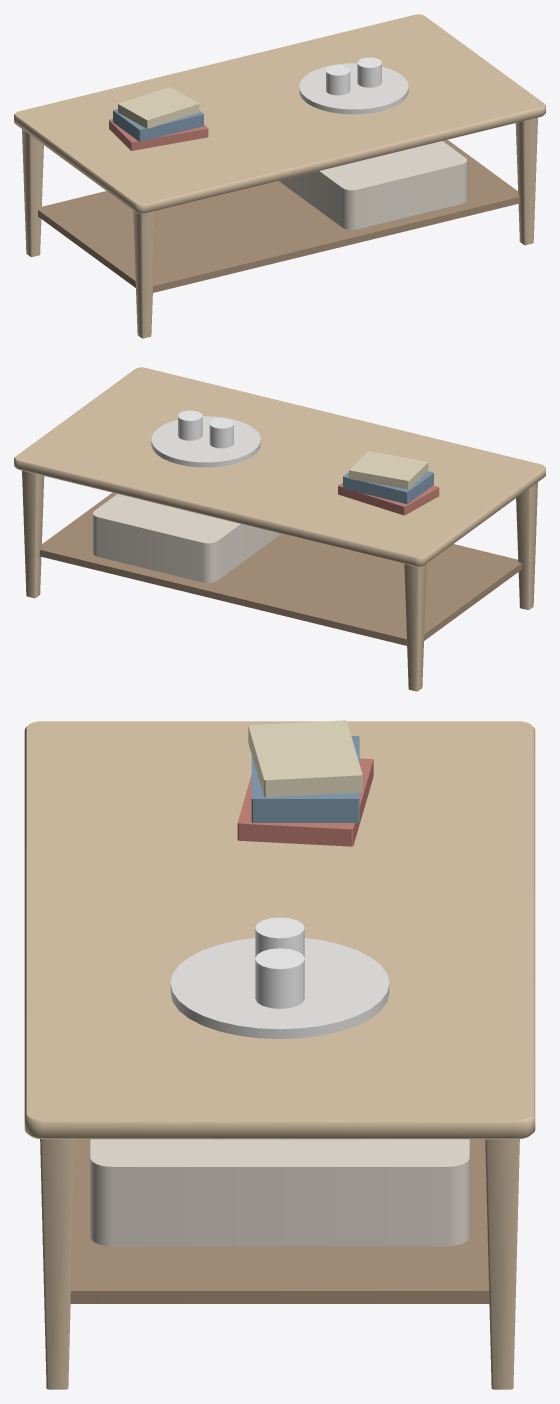
3 renders of one model, top to bottom at view 1: azimuth 30°, elevation 25°; view 2: azimuth 150°, elevation 25°; view 3: azimuth 270°, elevation 25°, orthographic. The views are drawn at different scales.
Parts seen in each view (by area): view 1: Bàn trà Dài=1300; Rộng=700; view 2: Bàn trà Dài=1300; Rộng=700; view 3: Bàn trà Dài=1300; Rộng=700.
Boxes of the visible parts, bbox=[...] form: Bàn trà Dài=1300; Rộng=700: bbox=[14, 14, 545, 338]; Bàn trà Dài=1300; Rộng=700: bbox=[14, 367, 545, 691]; Bàn trà Dài=1300; Rộng=700: bbox=[24, 720, 535, 1389].
Size of the model in its own units: 1.3 by 0.508 by 0.7.
